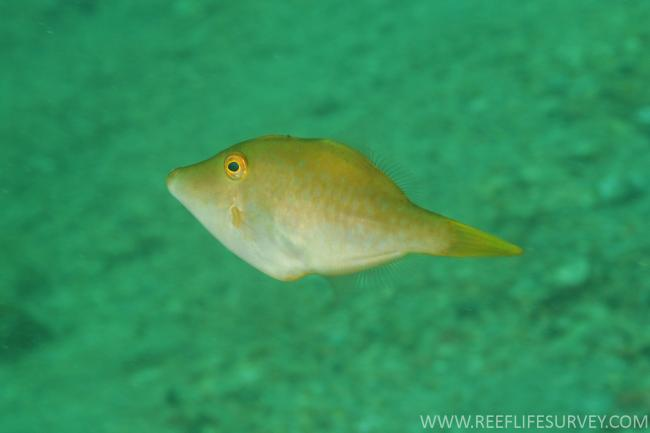fish: (167, 136, 526, 281)
